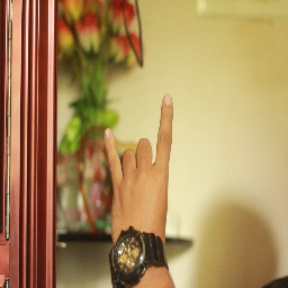V: (101, 92, 184, 244)
